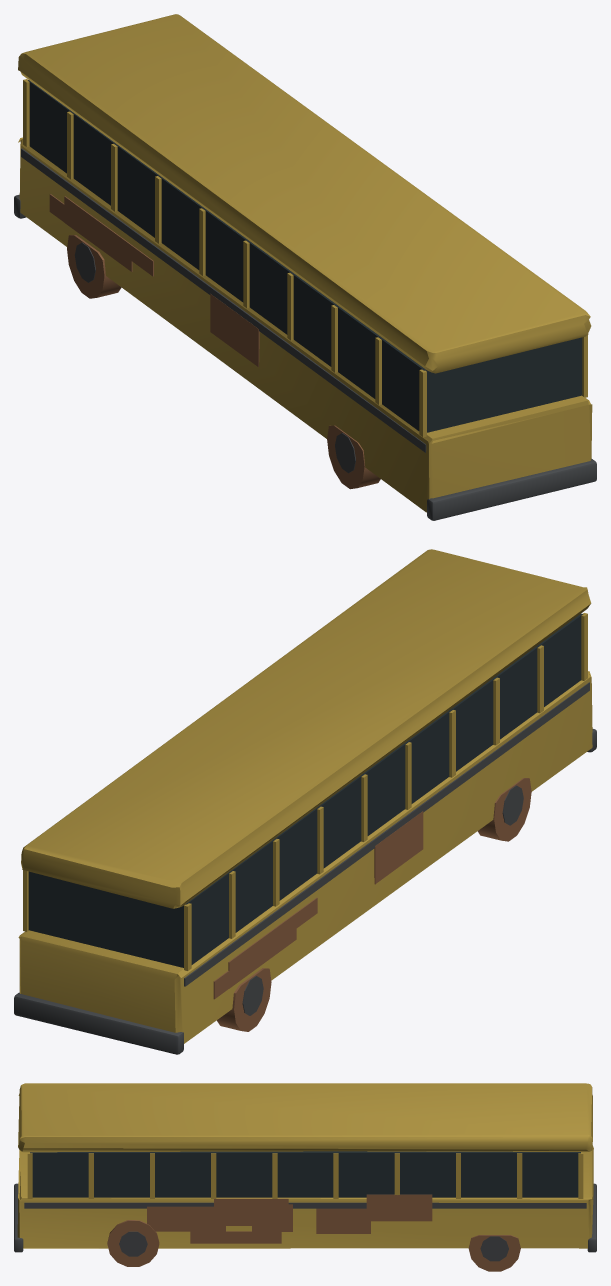
Rendered from ZR_Bus_Wreck.fbx.
3 renders of one model, top to bottom at view 1: azimuth 30°, elevation 25°; view 2: azimuth 150°, elevation 25°; view 3: azimuth 270°, elevation 25°, orthographic. The views are drawn at different scales.
Visible parts, largest first — view 1: ZR_Bus_Wreck; view 2: ZR_Bus_Wreck; view 3: ZR_Bus_Wreck.
Boxes of the visible parts, left/top/right/bottom form: ZR_Bus_Wreck: left=14, top=14, right=596, bottom=520; ZR_Bus_Wreck: left=14, top=549, right=596, bottom=1054; ZR_Bus_Wreck: left=14, top=1083, right=596, bottom=1271.
Size of the model in its own units: 2.59 by 2.85 by 11.18.
